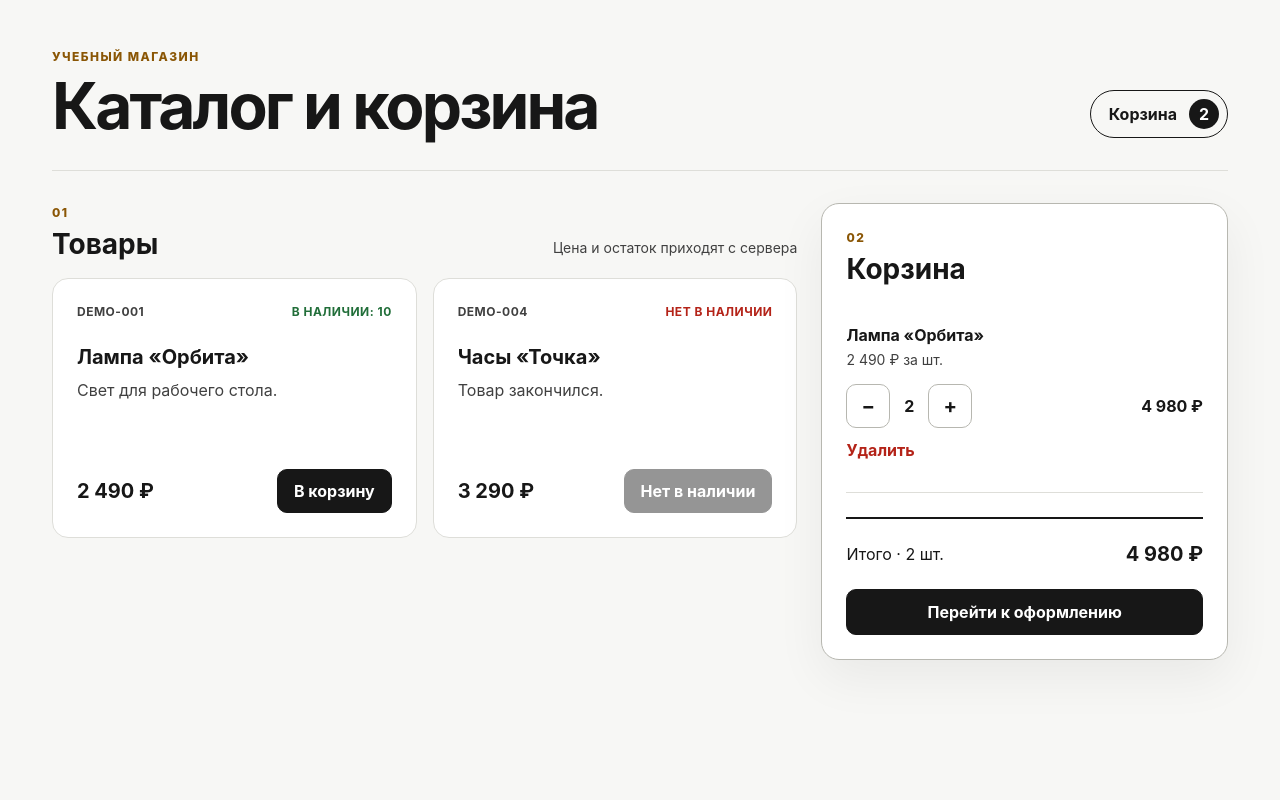
Test: Catalog and Cart › adds with the next absolute quantity and displays only server Cart totals
Click the button with aria-label "Добавить «Лампа «Орбита»» в корзину": (334, 491) [277,469,392,513]
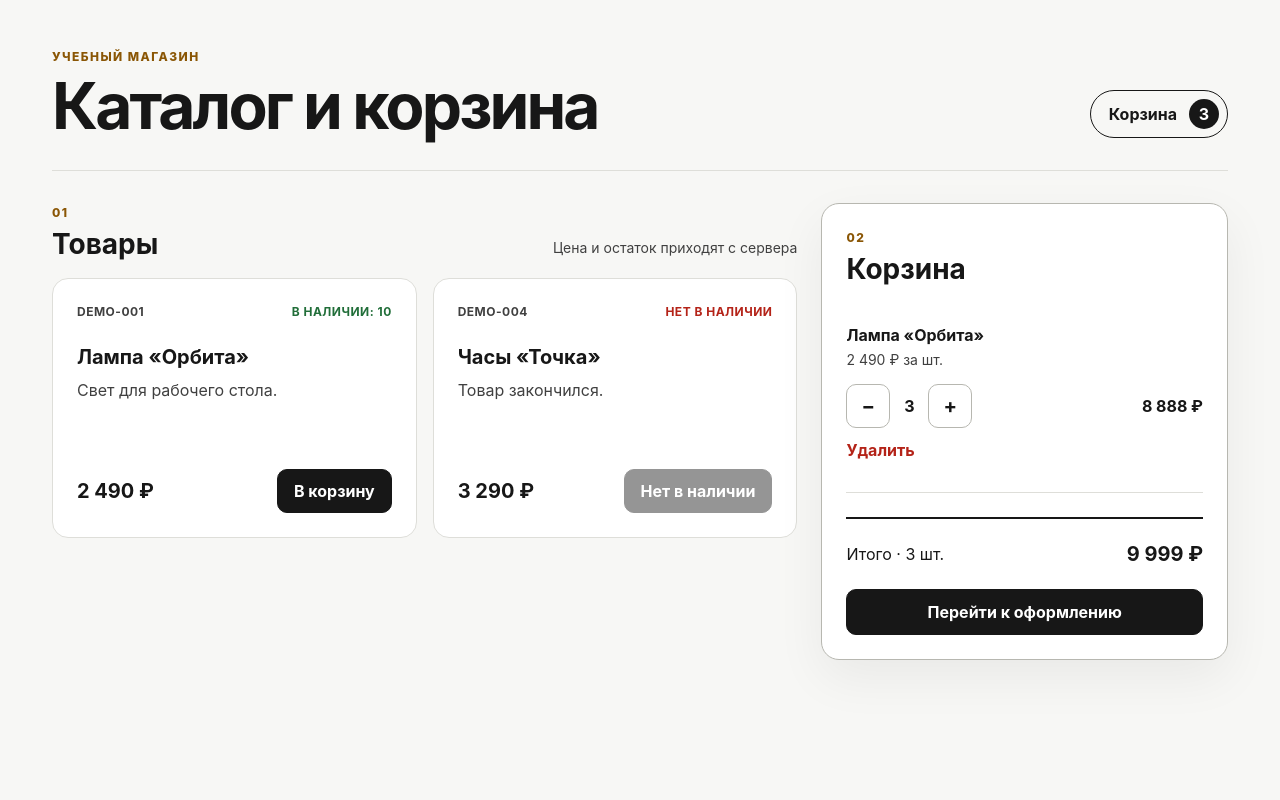
Check: the text "9 999 ₽" is shown, box [1127,539,1203,569]
Check: the text "8 888 ₽" is shown, box [1142,394,1203,418]
